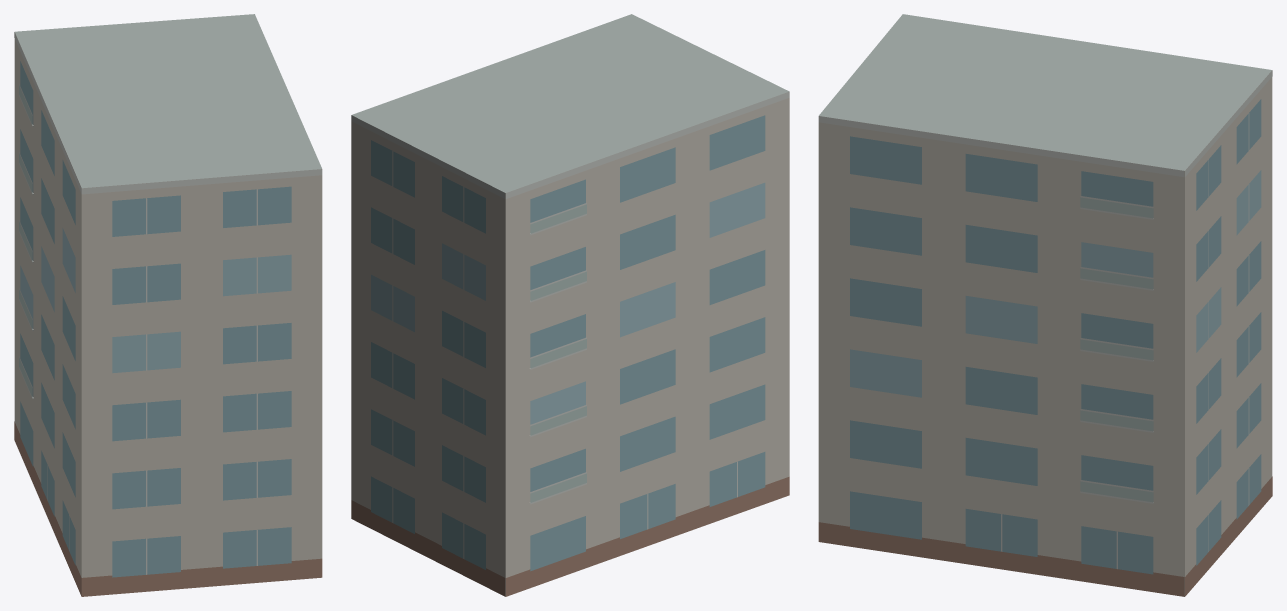
The model's file is survey-upis-32987264.glb.
The picture shows the model from 3 angles, left to right: view 1: azimuth 30°, elevation 25°; view 2: azimuth 150°, elevation 25°; view 3: azimuth 270°, elevation 25°; orthographic projection. The views are drawn at different scales.
Parts seen in each view (by area): view 1: survey-upis-32987264.tmp; view 2: survey-upis-32987264.tmp; view 3: survey-upis-32987264.tmp.
Boxes of the visible parts, x1,y1,x2,y2 form: survey-upis-32987264.tmp: (14,14,322,596); survey-upis-32987264.tmp: (351,14,789,596); survey-upis-32987264.tmp: (818,14,1272,596).
Bounding box in the file's own units: 12.69 × 16.05 × 15.51.
